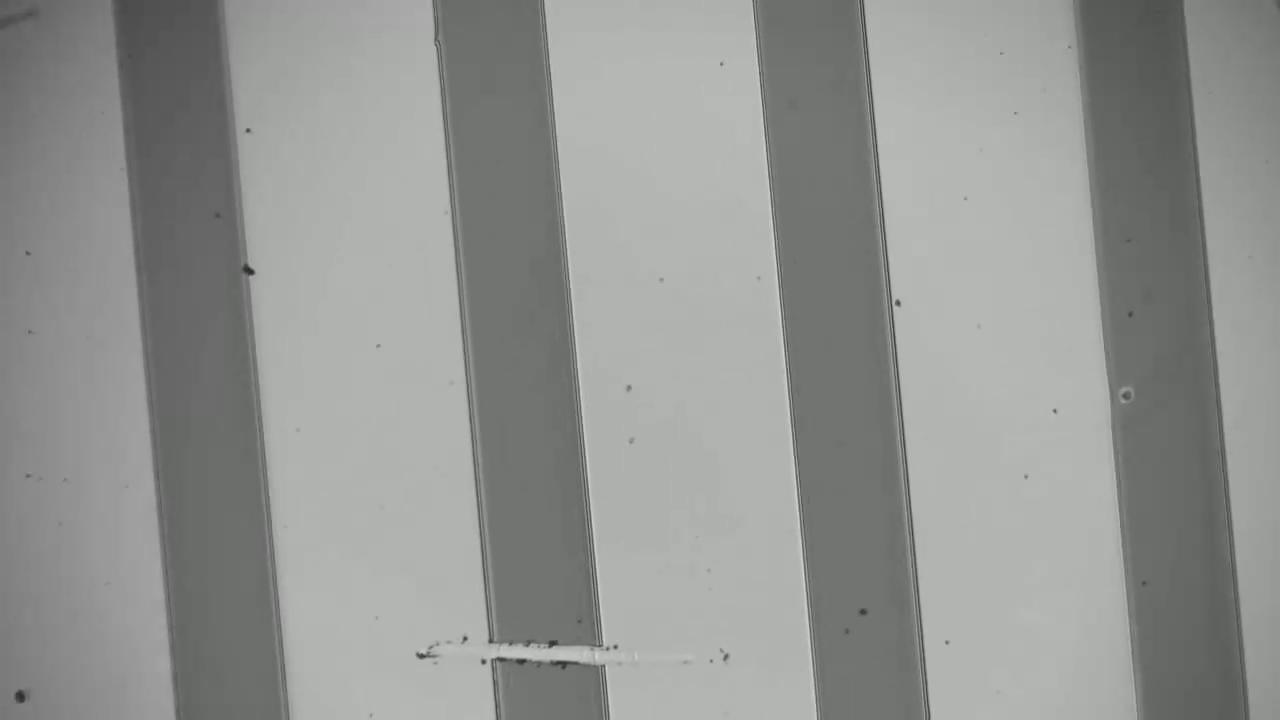Short_circuit: (464, 619, 625, 686)
